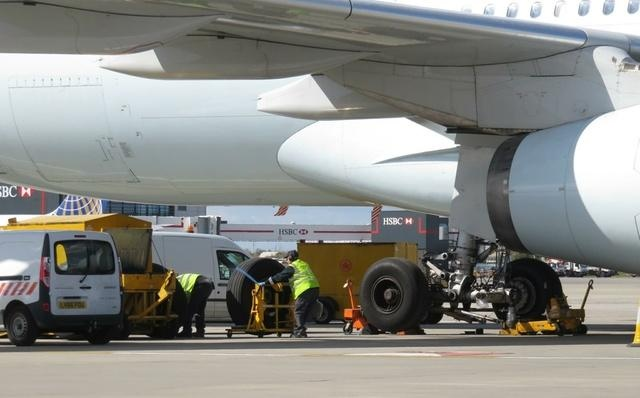airplane: (6, 6, 640, 205)
